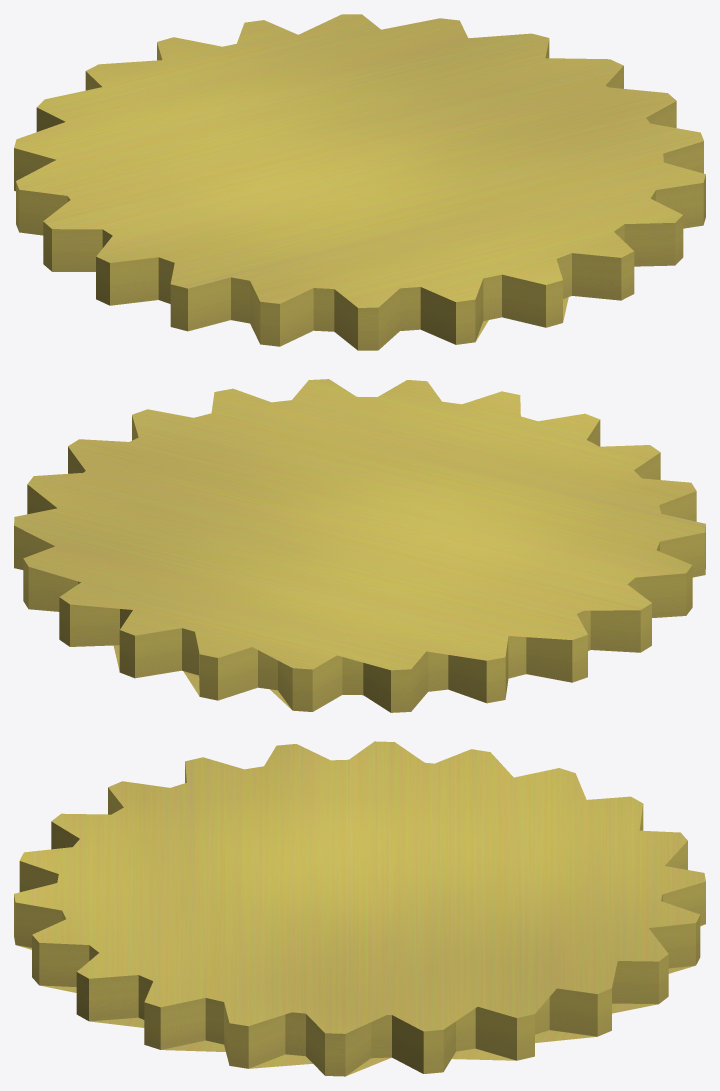
The model's file is CogInset022.fbx.
3 renders of one model, top to bottom at view 1: azimuth 30°, elevation 25°; view 2: azimuth 150°, elevation 25°; view 3: azimuth 270°, elevation 25°, orthographic.
Visible parts, largest first — view 1: CogInset022; view 2: CogInset022; view 3: CogInset022.
Boxes of the visible parts, <box> form: CogInset022: <box>14,14,705,350</box>; CogInset022: <box>14,379,705,712</box>; CogInset022: <box>14,741,705,1076</box>.
Size of the model in its own units: 215 by 14.59 by 215.
